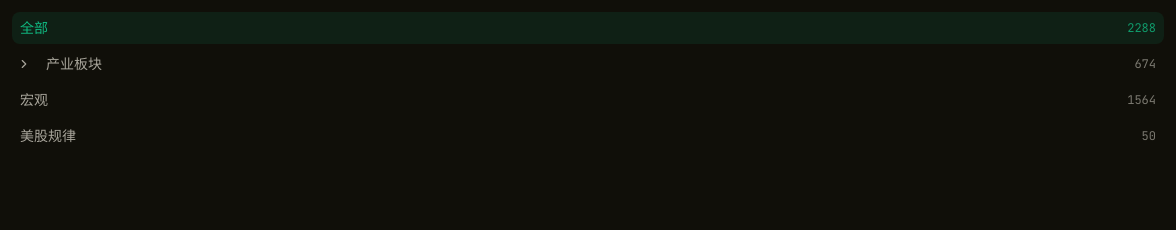
Scenario: TopicTree › clicking the chevron expands the parent and reveals children
This screenshot has width=1176, height=230.
Click the button named "展开": (24, 64) [12,48,36,80]
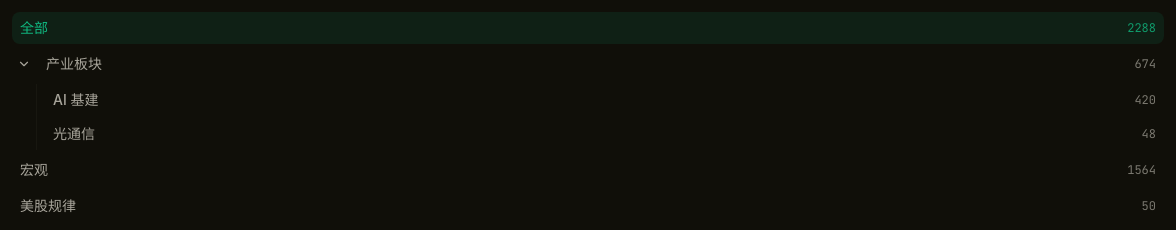
expect the text "AI 基建" is shown: met, box [53,90,98,110]
expect the text "光通信" is shown: met, box [53,124,95,144]
